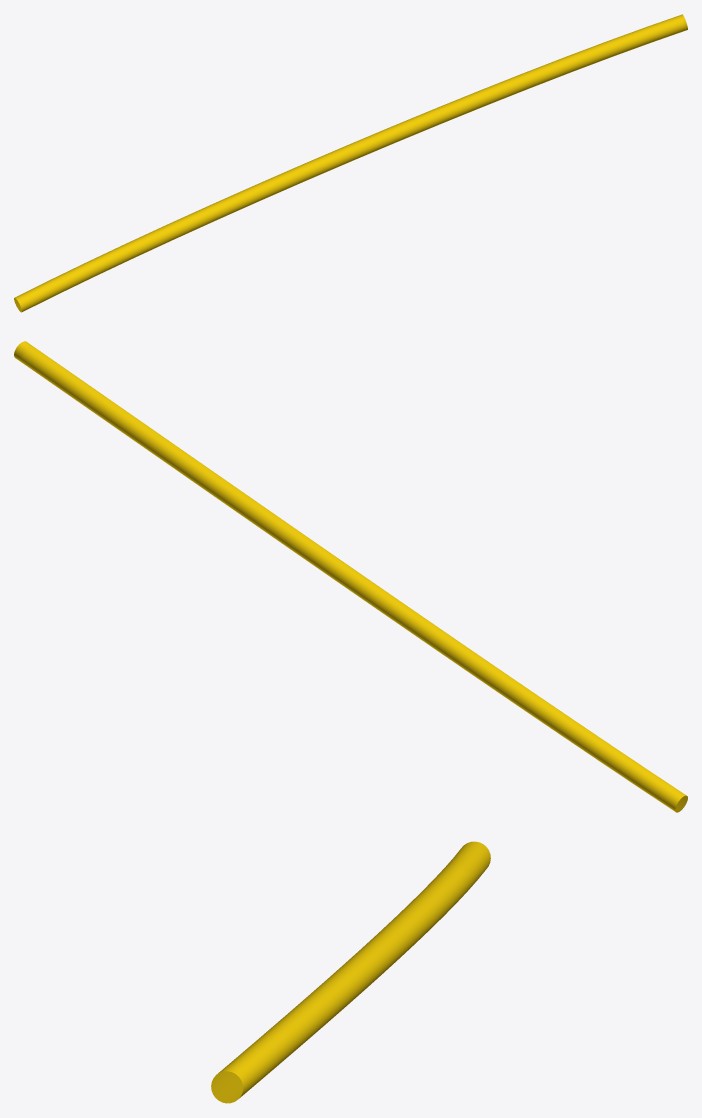
File: Event_421364160_track_37.fbx
3 views of the same model, one above another, from view 1: azimuth 30°, elevation 25°; view 2: azimuth 150°, elevation 25°; view 3: azimuth 270°, elevation 25° (orthographic). The views are drawn at different scales.
Parts seen in each view (by area): view 1: Model; view 2: Model; view 3: Model.
Part boxes in pixels (bbox=[...]): Model: bbox=[14, 14, 687, 312]; Model: bbox=[14, 341, 687, 812]; Model: bbox=[211, 841, 490, 1103].
Size of the model in its own units: 1.71 by 0.5217 by 0.3393.
